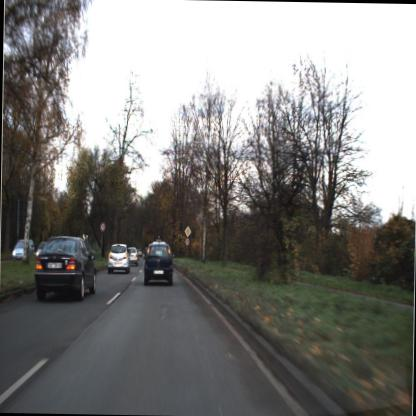other: (182, 222, 192, 238)
prohibitory: (98, 222, 107, 233), (182, 237, 191, 246)
